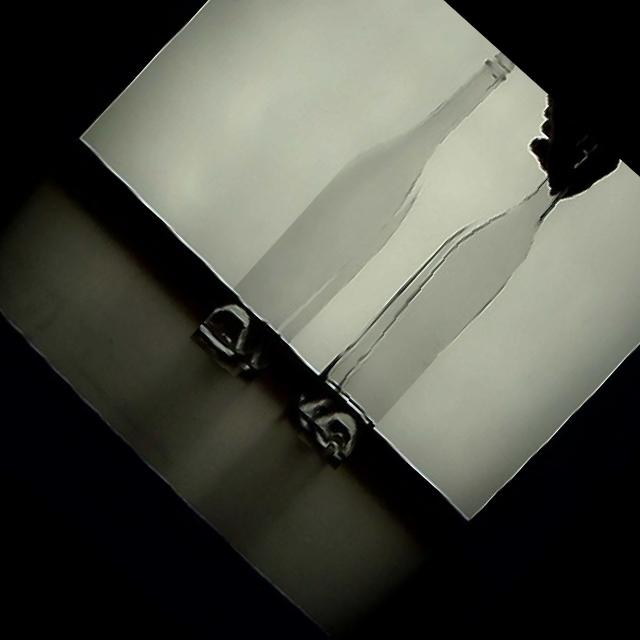Glass: (188, 26, 530, 392), (280, 113, 611, 470)
